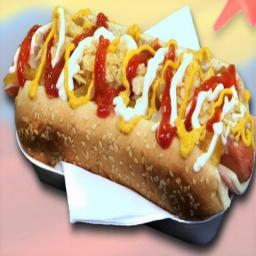hotdog: (0, 2, 256, 222)
